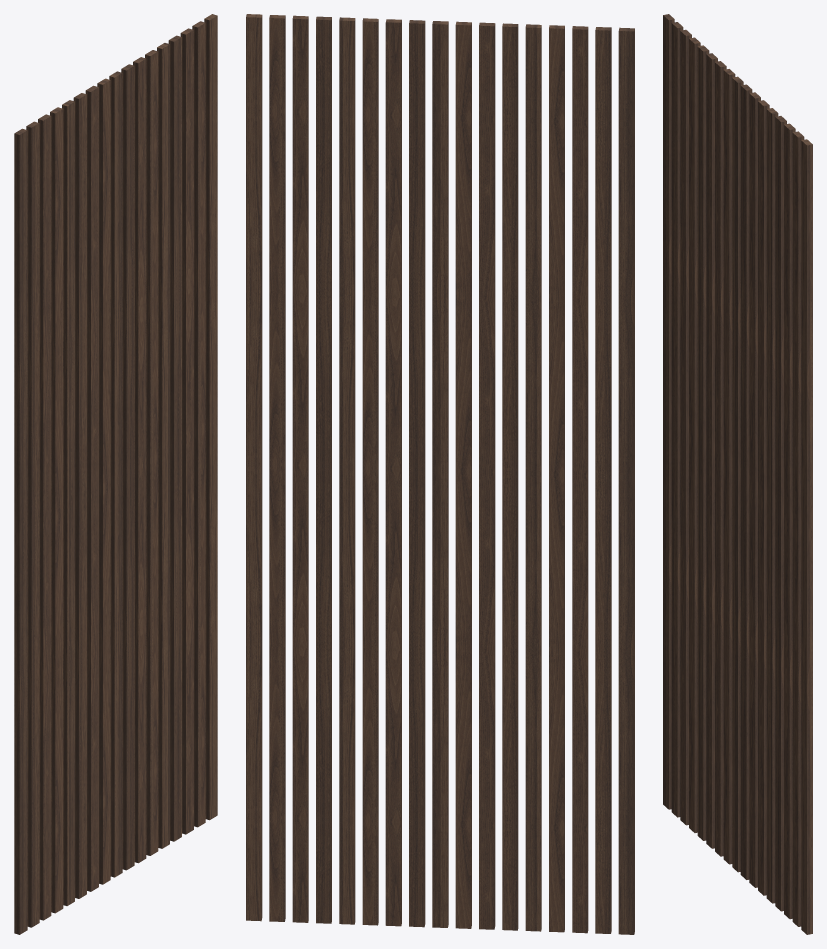
File: wall_panel_2.glb
The picture shows the model from 3 angles, left to right: view 1: azimuth 30°, elevation 25°; view 2: azimuth 150°, elevation 25°; view 3: azimuth 270°, elevation 25°; orthographic projection. The views are drawn at different scales.
Visible parts, largest first — view 1: Box001, Box004, Box009, Box010, Box017, Box002, Box003, Box011, Box012, Box014, Box008, Box015 (+5 smaller); view 2: Box005, Box006, Box012, Box013, Box007, Box011, Box003, Box008, Box010, Box015, Box001, Box002 (+5 smaller); view 3: Box017, Box005, Box008, Box013, Box002, Box010, Box016, Box003, Box009, Box015, Box007, Box014 (+5 smaller).
Part boxes in pixels (x1=…): Box001: x1=14, y1=128, x2=27, y2=934; Box004: x1=50, y1=107, x2=63, y2=913; Box009: x1=109, y1=71, x2=122, y2=877; Box010: x1=121, y1=64, x2=134, y2=870; Box017: x1=204, y1=14, x2=217, y2=820; Box002: x1=26, y1=121, x2=39, y2=927; Box003: x1=38, y1=114, x2=51, y2=920; Box011: x1=133, y1=57, x2=146, y2=863; Box012: x1=145, y1=50, x2=158, y2=855; Box014: x1=168, y1=35, x2=181, y2=841; Box008: x1=97, y1=78, x2=110, y2=884; Box015: x1=180, y1=28, x2=193, y2=834; Box005: x1=525, y1=24, x2=541, y2=931; Box006: x1=502, y1=23, x2=518, y2=930; Box012: x1=362, y1=18, x2=378, y2=925; Box013: x1=339, y1=17, x2=355, y2=924; Box007: x1=479, y1=22, x2=495, y2=929; Box011: x1=385, y1=19, x2=401, y2=926; Box003: x1=572, y1=26, x2=588, y2=933; Box008: x1=455, y1=21, x2=471, y2=928; Box010: x1=409, y1=20, x2=425, y2=927; Box015: x1=292, y1=15, x2=308, y2=922; Box001: x1=618, y1=27, x2=634, y2=934; Box002: x1=595, y1=27, x2=611, y2=933; Box017: x1=801, y1=139, x2=812, y2=934; Box005: x1=697, y1=45, x2=709, y2=840; Box008: x1=723, y1=69, x2=735, y2=864; Box013: x1=766, y1=108, x2=778, y2=903; Box002: x1=671, y1=22, x2=683, y2=817; Box010: x1=740, y1=84, x2=752, y2=879; Box016: x1=792, y1=131, x2=804, y2=926; Box003: x1=680, y1=29, x2=691, y2=825; Box009: x1=732, y1=76, x2=743, y2=872; Box015: x1=784, y1=123, x2=795, y2=919; Box007: x1=715, y1=61, x2=726, y2=856; Box014: x1=775, y1=116, x2=786, y2=911.
Size of the model in its own units: 0.9143 by 2.56 by 0.4398.
1 material, 1 textured.
